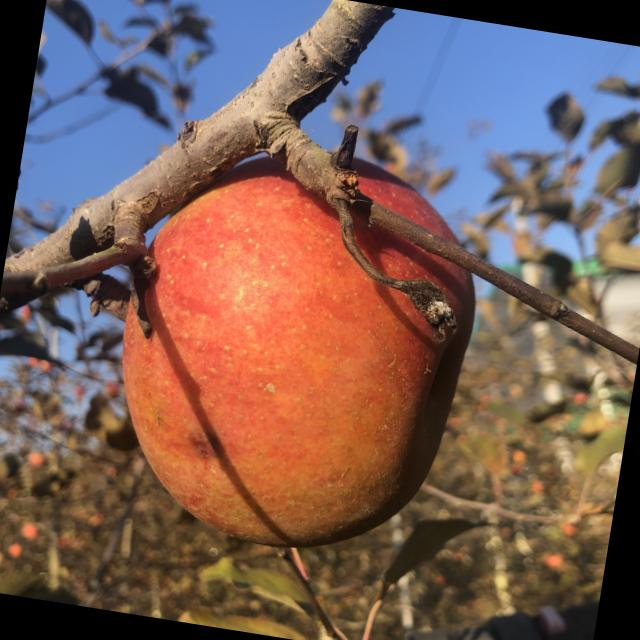fresh: (87, 116, 508, 579)
